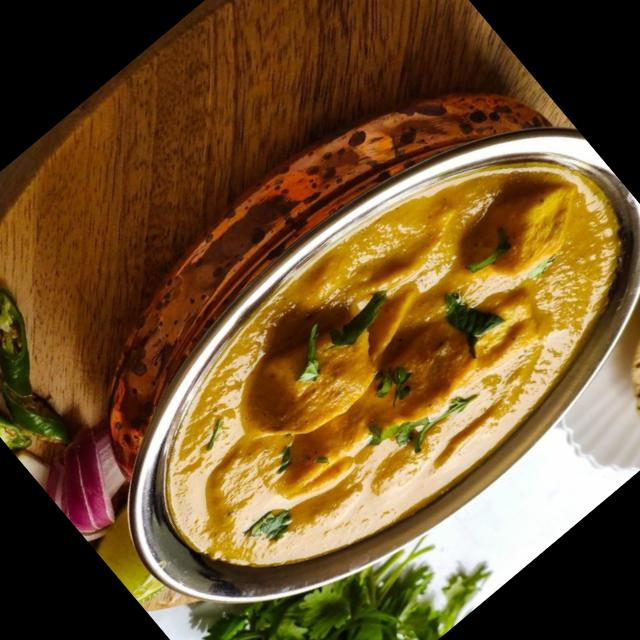ShahiPaneer: (100, 85, 640, 640)
